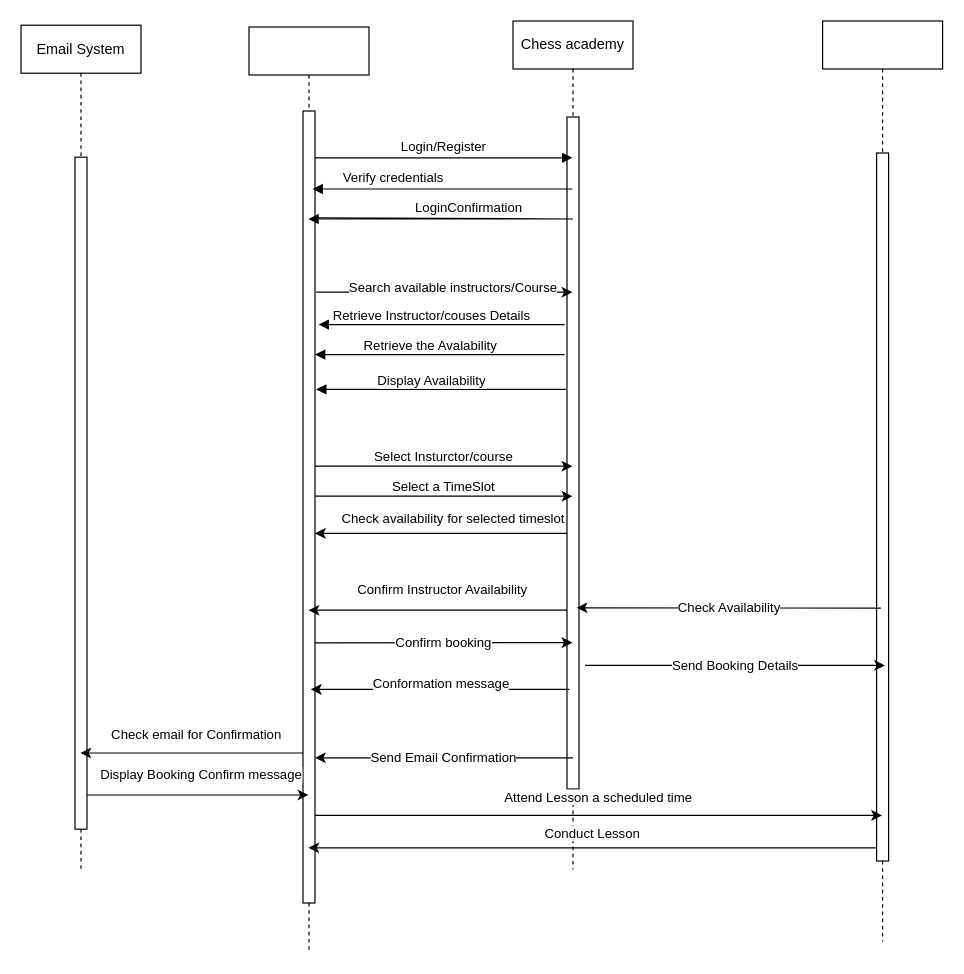
Image size: 964x974. Some labels were removed from this diagram. The shapes that lost their labels are listed below. From the top down, each one's box as (x1, y1, x2, y2) in pixels, then its label:
(248, 26, 369, 953): Student
(821, 20, 943, 941): Instructor/course
